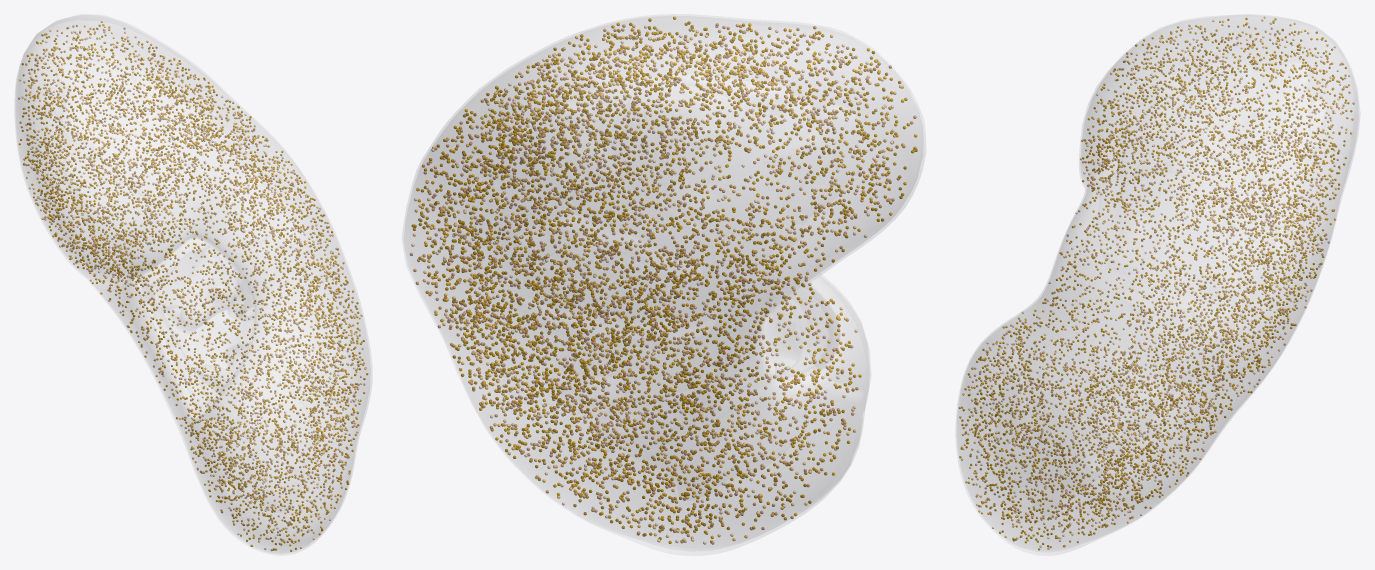
Rendered from 3d-vh-m-kidney-l-UBERON_0004538-all-as-azimuth-sphere-hra-pop.glb.
The picture shows the model from 3 angles, left to right: view 1: azimuth 30°, elevation 25°; view 2: azimuth 150°, elevation 25°; view 3: azimuth 270°, elevation 25°; orthographic projection. The views are drawn at different scales.
Visible parts, largest first — view 1: VH_M_kidney_capsule_L, VH_M_outer_cortex_of_kidney_L, VH_M_hilum_of_kidney_L, VH_M_renal_column_L, VH_M_renal_pyramid_L_f; view 2: VH_M_kidney_capsule_L, VH_M_outer_cortex_of_kidney_L, VH_M_hilum_of_kidney_L; view 3: VH_M_kidney_capsule_L, VH_M_outer_cortex_of_kidney_L.
Boxes of the visible parts, <box> form: VH_M_kidney_capsule_L: <box>15,14,371,555</box>; VH_M_outer_cortex_of_kidney_L: <box>17,21,368,553</box>; VH_M_hilum_of_kidney_L: <box>137,237,247,415</box>; VH_M_renal_column_L: <box>168,239,252,376</box>; VH_M_renal_pyramid_L_f: <box>141,278,252,332</box>; VH_M_kidney_capsule_L: <box>402,14,925,555</box>; VH_M_outer_cortex_of_kidney_L: <box>405,18,920,547</box>; VH_M_hilum_of_kidney_L: <box>762,288,828,379</box>; VH_M_kidney_capsule_L: <box>956,14,1359,555</box>; VH_M_outer_cortex_of_kidney_L: <box>957,17,1353,549</box>.
Size of the model in its own units: 0.0757 by 0.1065 by 0.0824.
